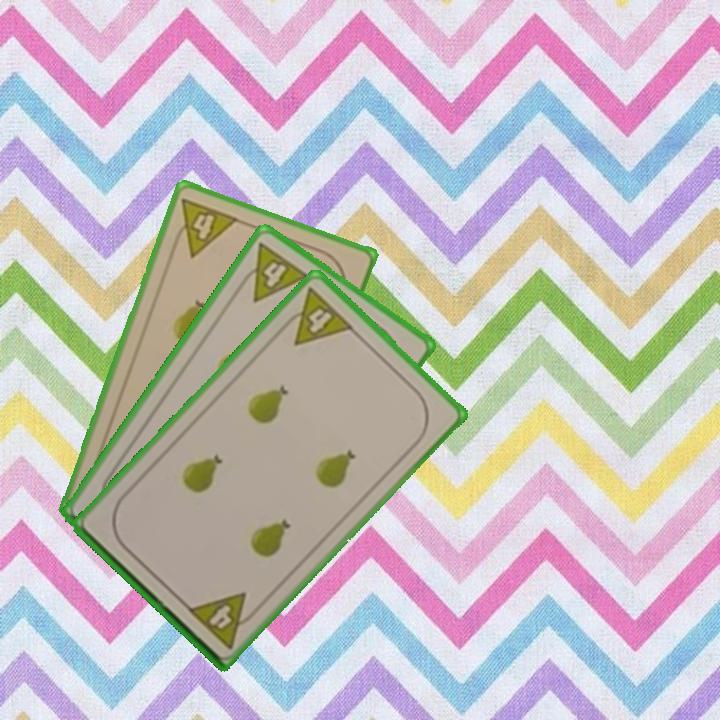4p: (232, 238, 312, 305), (276, 283, 356, 349), (183, 588, 262, 652), (167, 194, 241, 260)
